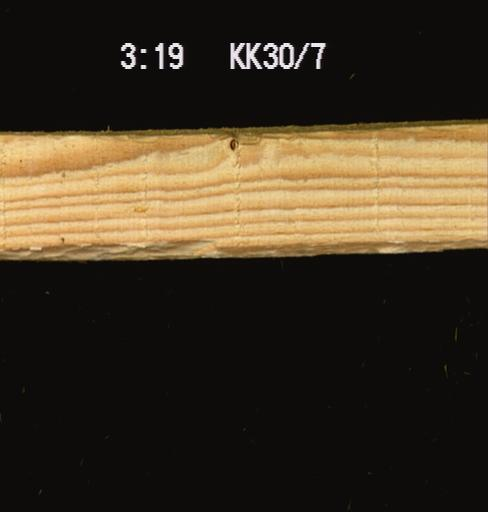dry_knot: (224, 132, 246, 154)
wave: (0, 224, 487, 265)
